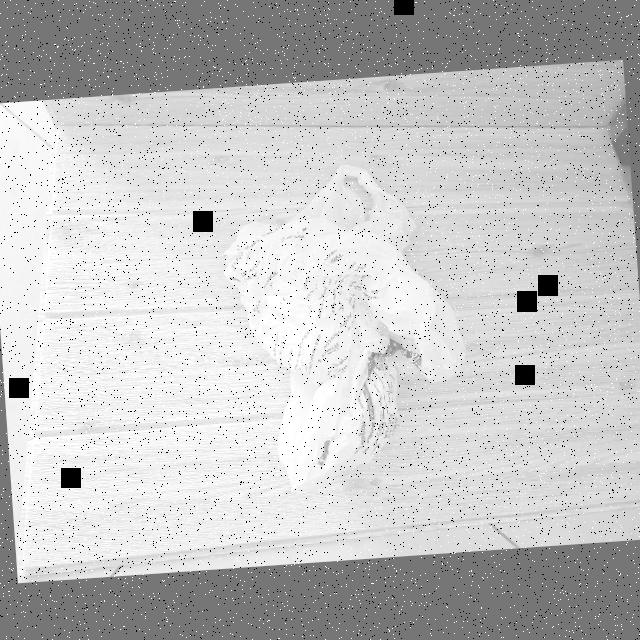plastic_bag: (218, 144, 464, 491)
